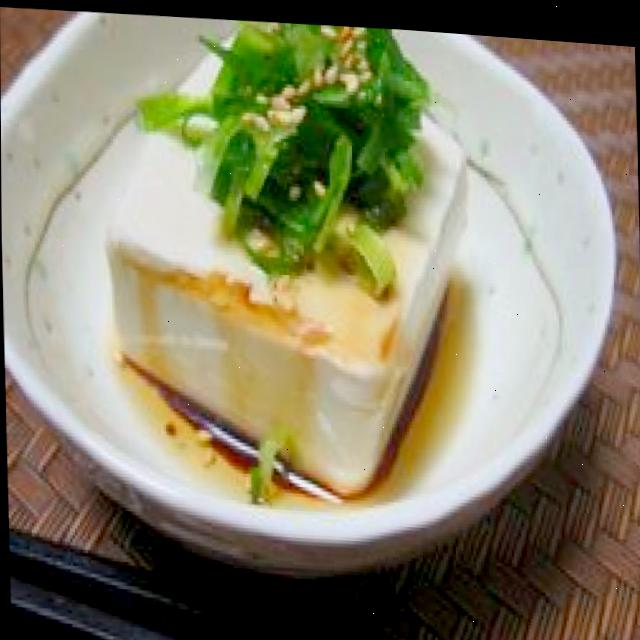豆腐料理: (90, 5, 475, 500)
